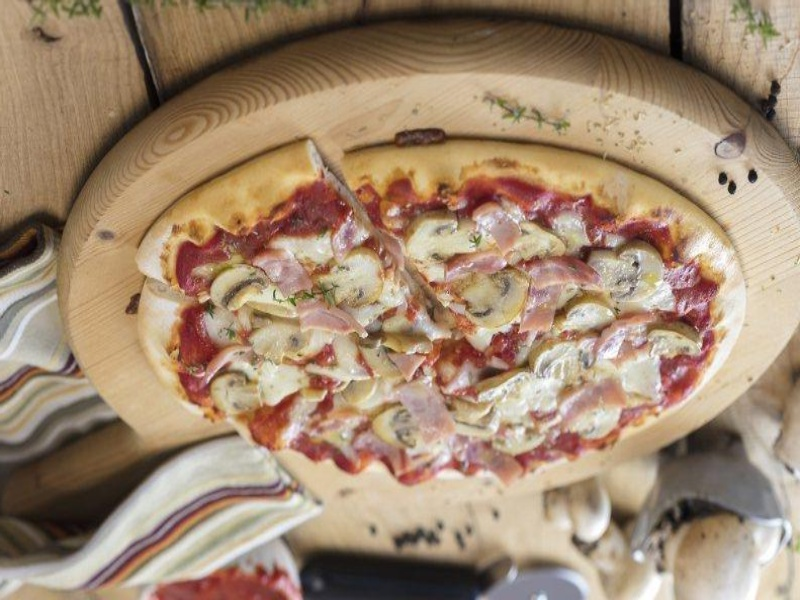champignon: (401, 206, 483, 282), (581, 239, 669, 305), (314, 244, 389, 316), (452, 266, 531, 334), (203, 261, 275, 316), (369, 402, 424, 458)
